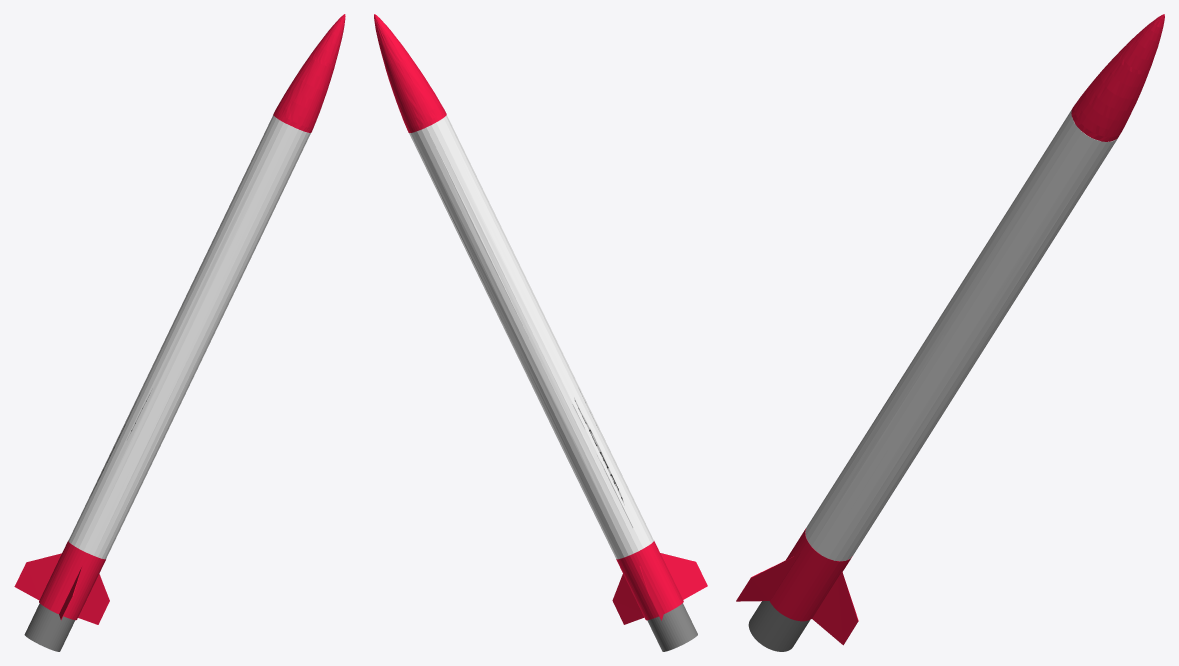
Rendered from Rocket_Final.glb.
3 renders of one model, left to right at view 1: azimuth 30°, elevation 25°; view 2: azimuth 150°, elevation 25°; view 3: azimuth 330°, elevation 25°, orthographic. The views are drawn at different scales.
Bounding box in the file's own units: 1.35 × 2.28 × 0.3402.
7 materials, 1 textured.
